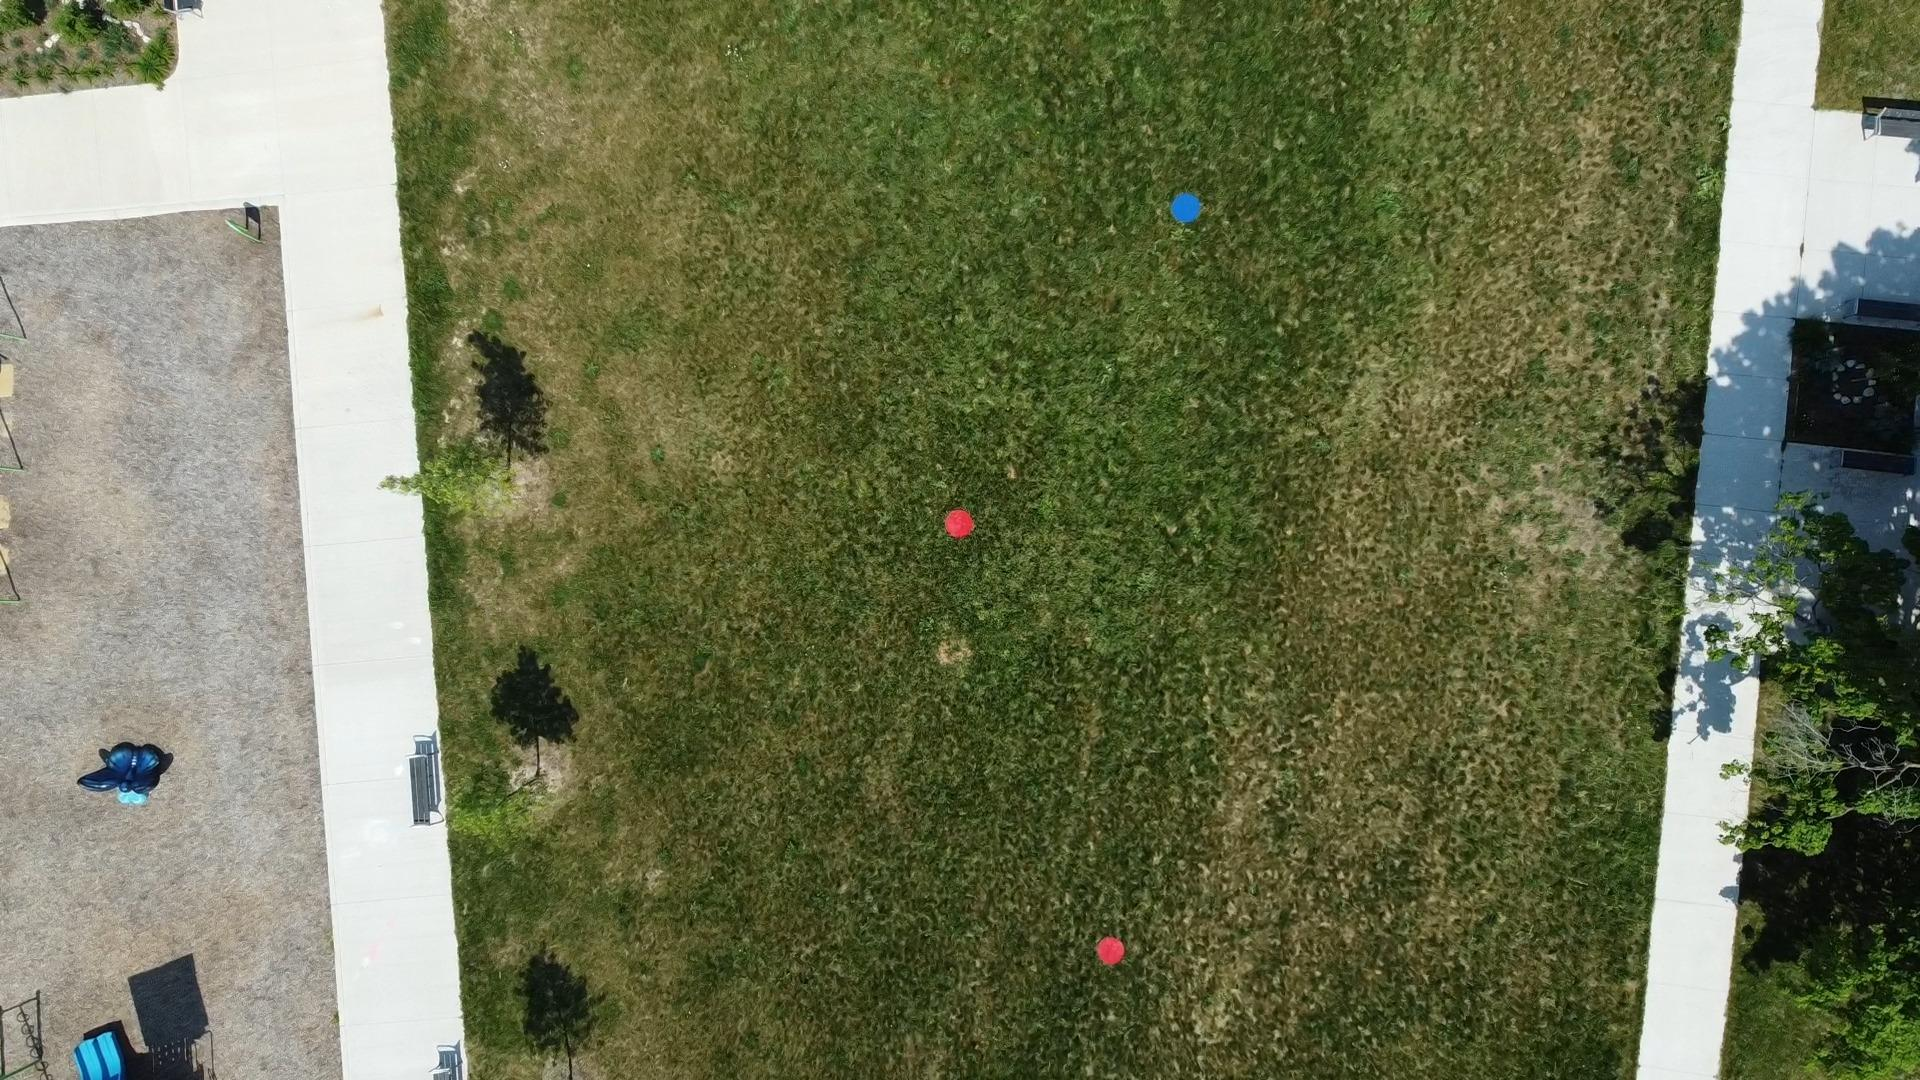Blue: (1170, 193, 1201, 224)
Red: (943, 508, 977, 539), (1095, 935, 1129, 967)
